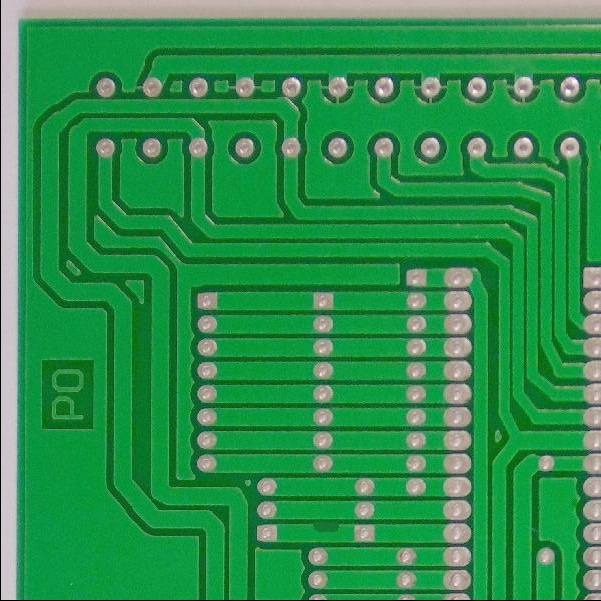mouse_bite: (308, 518, 341, 541)
